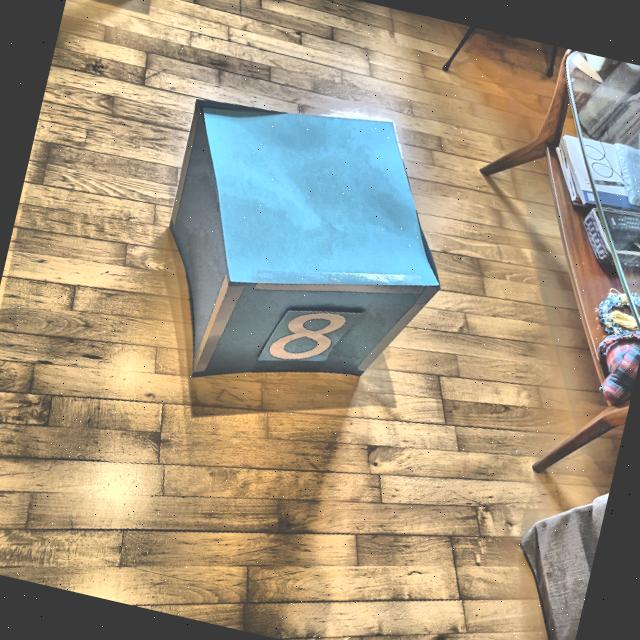blue box: (128, 73, 474, 428)
eight: (261, 296, 350, 376)
